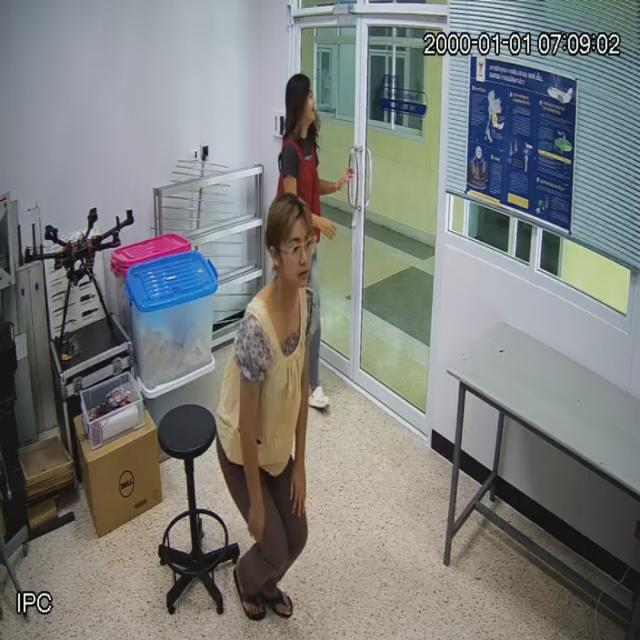normal: (215, 210, 332, 631), (272, 59, 344, 409)
